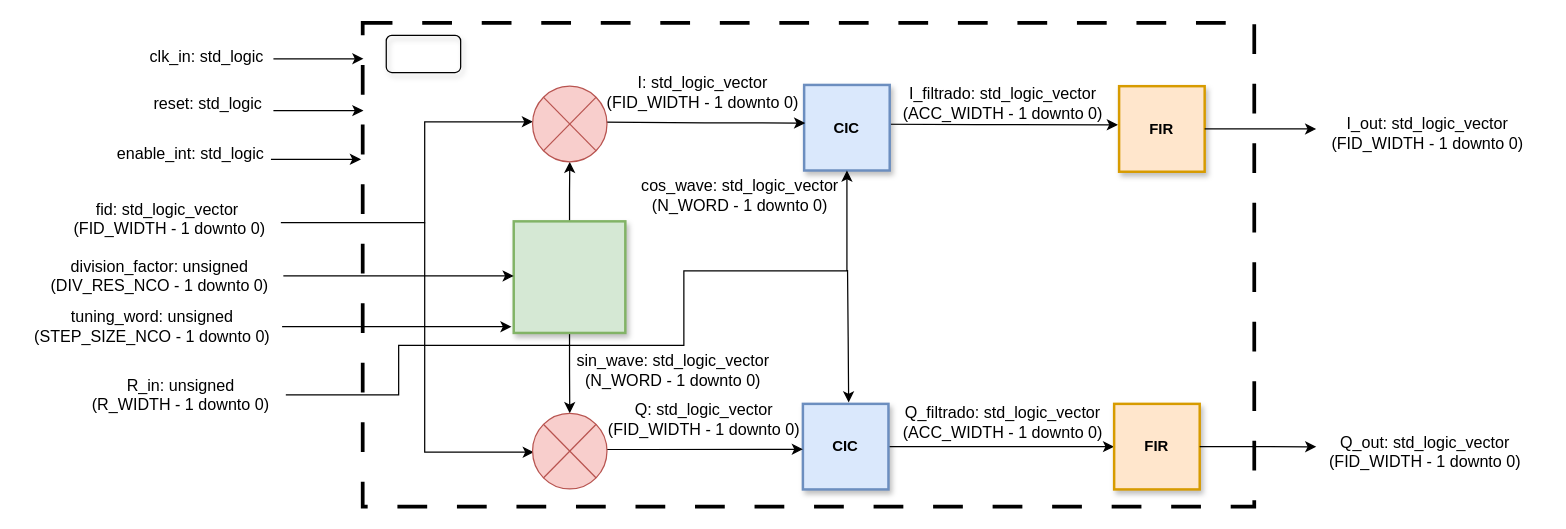
Some shapes in this 1566 by 529 pixel diagram are drawn without their labels. The shapes that lost their labels are listed below. From the top down, each one's centre as x and y in pixels, then its label:
At [424,55]: "DDC".
At [570,278]: "NCO".
